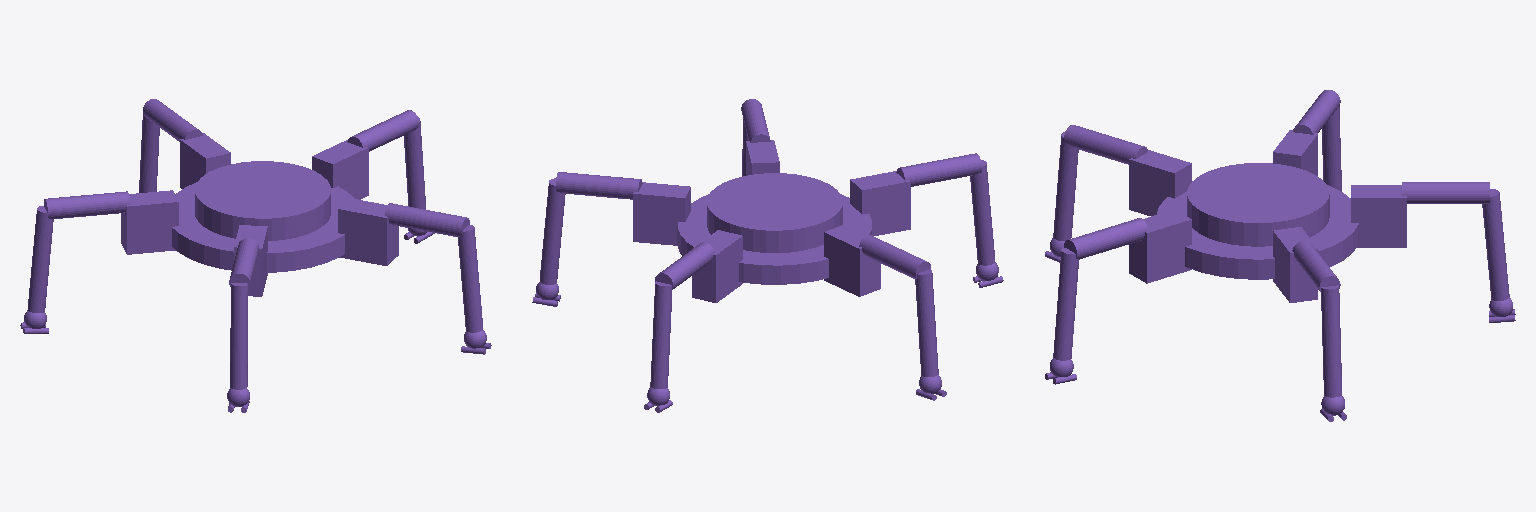
The robot description file, URDF, robot "pebble":
<?xml version="1.0" ?>
<!-- =================================================================================== -->
<!-- |    This document was autogenerated by xacro from /root/work/rocky/ros2/rocky_description/urdf/_plain.xacro | -->
<!-- |    EDITING THIS FILE BY HAND IS NOT RECOMMENDED                                 | -->
<!-- =================================================================================== -->
<!-- AUTO-GENERATED from cad/params.yaml by generate_urdf.py — edit THAT, not this -->
<robot name="pebble">
  <material name="pebble">
    <color rgba="0.55 0.42 0.75 1"/>
  </material>
  <link name="base_link">
    <inertial>
      <origin xyz="0.000000 0.000000 0.024500"/>
      <mass value="1.35"/>
      <inertia ixx="3.805e-03" ixy="0" ixz="0" iyy="3.805e-03" iyz="0" izz="7.126e-03"/>
    </inertial>
    <visual>
      <origin xyz="0 0 0.018"/>
      <geometry>
        <cylinder length="0.024" radius="0.1100"/>
      </geometry>
      <material name="pebble"/>
    </visual>
    <visual>
      <origin xyz="0 0 0.044"/>
      <geometry>
        <cylinder length="0.028" radius="0.0770"/>
      </geometry>
      <material name="pebble"/>
    </visual>
    <collision>
      <origin xyz="0 0 0.018"/>
      <geometry>
        <cylinder length="0.024" radius="0.1100"/>
      </geometry>
    </collision>
    <collision>
      <origin xyz="0 0 0.044"/>
      <geometry>
        <cylinder length="0.028" radius="0.0770"/>
      </geometry>
    </collision>
  </link>
  <link name="coxa0">
    <inertial>
      <origin xyz="0.020000 0.000000 0.030000"/>
      <mass value="0.14"/>
      <inertia ixx="5.395e-05" ixy="0" ixz="0" iyy="8.400e-05" iyz="0" izz="5.395e-05"/>
    </inertial>
    <visual>
      <origin xyz="0.020 0 0.030"/>
      <geometry>
        <box size="0.060 0.032 0.060"/>
      </geometry>
      <material name="pebble"/>
    </visual>
    <collision>
      <origin xyz="0.020 0 0.030"/>
      <geometry>
        <box size="0.060 0.032 0.060"/>
      </geometry>
    </collision>
  </link>
  <joint name="yaw0" type="revolute">
    <parent link="base_link"/>
    <child link="coxa0"/>
    <origin rpy="0 0 1.5707963267948966" xyz="6.735557395310442e-18 0.11 0"/>
    <axis xyz="0 0 1"/>
    <limit effort="2.94" lower="-0.698132" upper="0.698132" velocity="5.2"/>
    <dynamics damping="0.05"/>
  </joint>
  <link name="femur0">
    <inertial>
      <origin xyz="0.047500 0.000000 0.000000"/>
      <mass value="0.03"/>
      <inertia ixx="2.160e-06" ixy="0" ixz="0" iyy="2.364e-05" iyz="0" izz="2.364e-05"/>
    </inertial>
    <visual>
      <origin rpy="0 1.570796 0" xyz="0.0475 0 0"/>
      <geometry>
        <cylinder length="0.0950" radius="0.012"/>
      </geometry>
      <material name="pebble"/>
    </visual>
    <collision>
      <origin rpy="0 1.570796 0" xyz="0.0475 0 0"/>
      <geometry>
        <cylinder length="0.0950" radius="0.012"/>
      </geometry>
    </collision>
  </link>
  <joint name="hip0" type="revolute">
    <parent link="coxa0"/>
    <child link="femur0"/>
    <origin xyz="0.0450 0 0.0580"/>
    <axis xyz="0 -1 0"/>
    <limit effort="2.94" lower="-1.221730" upper="1.570796" velocity="5.2"/>
    <dynamics damping="0.05"/>
  </joint>
  <link name="tibia0">
    <inertial>
      <origin xyz="0.062100 0.000000 0.000000"/>
      <mass value="0.119"/>
      <inertia ixx="5.950e-06" ixy="0" ixz="0" iyy="1.559e-04" iyz="0" izz="1.559e-04"/>
    </inertial>
    <visual>
      <origin rpy="0 1.570796 0" xyz="0.0621 0 0"/>
      <geometry>
        <cylinder length="0.1242" radius="0.010"/>
      </geometry>
      <material name="pebble"/>
    </visual>
    <collision>
      <origin rpy="0 1.570796 0" xyz="0.0621 0 0"/>
      <geometry>
        <cylinder length="0.1242" radius="0.010"/>
      </geometry>
    </collision>
  </link>
  <joint name="knee0" type="revolute">
    <parent link="femur0"/>
    <child link="tibia0"/>
    <origin xyz="0.0950 0 0"/>
    <axis xyz="0 -1 0"/>
    <limit effort="2.94" lower="-2.617994" upper="-0.349066" velocity="5.2"/>
    <dynamics damping="0.05"/>
  </joint>
  <link name="foot0">
    <inertial>
      <origin xyz="0.000000 0.000000 0.000000"/>
      <mass value="0.05500000000000001"/>
      <inertia ixx="3.448e-06" ixy="0" ixz="0" iyy="3.448e-06" iyz="0" izz="3.448e-06"/>
    </inertial>
    <!-- +0.004: fixed claw prong (MJCF parity) -->
    <visual>
      <geometry>
        <sphere radius="0.013"/>
      </geometry>
      <material name="pebble"/>
    </visual>
    <visual>
      <origin rpy="0 0 0.28" xyz="0.012 0.0075 0"/>
      <geometry>
        <cylinder length="0.028" radius="0.0035"/>
      </geometry>
      <material name="pebble"/>
    </visual>
    <collision>
      <geometry>
        <sphere radius="0.013"/>
      </geometry>
    </collision>
  </link>
  <joint name="foot_fix0" type="fixed">
    <parent link="tibia0"/>
    <child link="foot0"/>
    <origin xyz="0.1350 0 0"/>
  </joint>
  <link name="claw0_link">
    <inertial>
      <origin xyz="0.000000 0.000000 0.000000"/>
      <mass value="0.004"/>
      <inertia ixx="1.000e-07" ixy="0" ixz="0" iyy="1.000e-07" iyz="0" izz="1.000e-07"/>
    </inertial>
    <visual>
      <origin rpy="0 0 -0.28" xyz="0.012 -0.0075 0"/>
      <geometry>
        <cylinder length="0.028" radius="0.0035"/>
      </geometry>
      <material name="pebble"/>
    </visual>
  </link>
  <joint name="claw0" type="revolute">
    <parent link="foot0"/>
    <child link="claw0_link"/>
    <origin xyz="0 0 0"/>
    <axis xyz="0 0 1"/>
    <limit effort="0.23" lower="0.000000" upper="0.959931" velocity="6.0"/>
    <dynamics damping="0.01"/>
  </joint>
  <link name="coxa1">
    <inertial>
      <origin xyz="0.020000 0.000000 0.030000"/>
      <mass value="0.14"/>
      <inertia ixx="5.395e-05" ixy="0" ixz="0" iyy="8.400e-05" iyz="0" izz="5.395e-05"/>
    </inertial>
    <visual>
      <origin xyz="0.020 0 0.030"/>
      <geometry>
        <box size="0.060 0.032 0.060"/>
      </geometry>
      <material name="pebble"/>
    </visual>
    <collision>
      <origin xyz="0.020 0 0.030"/>
      <geometry>
        <box size="0.060 0.032 0.060"/>
      </geometry>
    </collision>
  </link>
  <joint name="yaw1" type="revolute">
    <parent link="base_link"/>
    <child link="coxa1"/>
    <origin rpy="0 0 2.827433388230814" xyz="-0.1046162167924669 0.033991869381244225 0"/>
    <axis xyz="0 0 1"/>
    <limit effort="2.94" lower="-0.698132" upper="0.698132" velocity="5.2"/>
    <dynamics damping="0.05"/>
  </joint>
  <link name="femur1">
    <inertial>
      <origin xyz="0.047500 0.000000 0.000000"/>
      <mass value="0.03"/>
      <inertia ixx="2.160e-06" ixy="0" ixz="0" iyy="2.364e-05" iyz="0" izz="2.364e-05"/>
    </inertial>
    <visual>
      <origin rpy="0 1.570796 0" xyz="0.0475 0 0"/>
      <geometry>
        <cylinder length="0.0950" radius="0.012"/>
      </geometry>
      <material name="pebble"/>
    </visual>
    <collision>
      <origin rpy="0 1.570796 0" xyz="0.0475 0 0"/>
      <geometry>
        <cylinder length="0.0950" radius="0.012"/>
      </geometry>
    </collision>
  </link>
  <joint name="hip1" type="revolute">
    <parent link="coxa1"/>
    <child link="femur1"/>
    <origin xyz="0.0450 0 0.0580"/>
    <axis xyz="0 -1 0"/>
    <limit effort="2.94" lower="-1.221730" upper="1.570796" velocity="5.2"/>
    <dynamics damping="0.05"/>
  </joint>
  <link name="tibia1">
    <inertial>
      <origin xyz="0.062100 0.000000 0.000000"/>
      <mass value="0.119"/>
      <inertia ixx="5.950e-06" ixy="0" ixz="0" iyy="1.559e-04" iyz="0" izz="1.559e-04"/>
    </inertial>
    <visual>
      <origin rpy="0 1.570796 0" xyz="0.0621 0 0"/>
      <geometry>
        <cylinder length="0.1242" radius="0.010"/>
      </geometry>
      <material name="pebble"/>
    </visual>
    <collision>
      <origin rpy="0 1.570796 0" xyz="0.0621 0 0"/>
      <geometry>
        <cylinder length="0.1242" radius="0.010"/>
      </geometry>
    </collision>
  </link>
  <joint name="knee1" type="revolute">
    <parent link="femur1"/>
    <child link="tibia1"/>
    <origin xyz="0.0950 0 0"/>
    <axis xyz="0 -1 0"/>
    <limit effort="2.94" lower="-2.617994" upper="-0.349066" velocity="5.2"/>
    <dynamics damping="0.05"/>
  </joint>
  <link name="foot1">
    <inertial>
      <origin xyz="0.000000 0.000000 0.000000"/>
      <mass value="0.05500000000000001"/>
      <inertia ixx="3.448e-06" ixy="0" ixz="0" iyy="3.448e-06" iyz="0" izz="3.448e-06"/>
    </inertial>
    <!-- +0.004: fixed claw prong (MJCF parity) -->
    <visual>
      <geometry>
        <sphere radius="0.013"/>
      </geometry>
      <material name="pebble"/>
    </visual>
    <visual>
      <origin rpy="0 0 0.28" xyz="0.012 0.0075 0"/>
      <geometry>
        <cylinder length="0.028" radius="0.0035"/>
      </geometry>
      <material name="pebble"/>
    </visual>
    <collision>
      <geometry>
        <sphere radius="0.013"/>
      </geometry>
    </collision>
  </link>
  <joint name="foot_fix1" type="fixed">
    <parent link="tibia1"/>
    <child link="foot1"/>
    <origin xyz="0.1350 0 0"/>
  </joint>
  <link name="claw1_link">
    <inertial>
      <origin xyz="0.000000 0.000000 0.000000"/>
      <mass value="0.004"/>
      <inertia ixx="1.000e-07" ixy="0" ixz="0" iyy="1.000e-07" iyz="0" izz="1.000e-07"/>
    </inertial>
    <visual>
      <origin rpy="0 0 -0.28" xyz="0.012 -0.0075 0"/>
      <geometry>
        <cylinder length="0.028" radius="0.0035"/>
      </geometry>
      <material name="pebble"/>
    </visual>
  </link>
  <joint name="claw1" type="revolute">
    <parent link="foot1"/>
    <child link="claw1_link"/>
    <origin xyz="0 0 0"/>
    <axis xyz="0 0 1"/>
    <limit effort="0.23" lower="0.000000" upper="0.959931" velocity="6.0"/>
    <dynamics damping="0.01"/>
  </joint>
  <link name="coxa2">
    <inertial>
      <origin xyz="0.020000 0.000000 0.030000"/>
      <mass value="0.14"/>
      <inertia ixx="5.395e-05" ixy="0" ixz="0" iyy="8.400e-05" iyz="0" izz="5.395e-05"/>
    </inertial>
    <visual>
      <origin xyz="0.020 0 0.030"/>
      <geometry>
        <box size="0.060 0.032 0.060"/>
      </geometry>
      <material name="pebble"/>
    </visual>
    <collision>
      <origin xyz="0.020 0 0.030"/>
      <geometry>
        <box size="0.060 0.032 0.060"/>
      </geometry>
    </collision>
  </link>
  <joint name="yaw2" type="revolute">
    <parent link="base_link"/>
    <child link="coxa2"/>
    <origin rpy="0 0 4.084070449666731" xyz="-0.06465637775217206 -0.0889918693812442 0"/>
    <axis xyz="0 0 1"/>
    <limit effort="2.94" lower="-0.698132" upper="0.698132" velocity="5.2"/>
    <dynamics damping="0.05"/>
  </joint>
  <link name="femur2">
    <inertial>
      <origin xyz="0.047500 0.000000 0.000000"/>
      <mass value="0.03"/>
      <inertia ixx="2.160e-06" ixy="0" ixz="0" iyy="2.364e-05" iyz="0" izz="2.364e-05"/>
    </inertial>
    <visual>
      <origin rpy="0 1.570796 0" xyz="0.0475 0 0"/>
      <geometry>
        <cylinder length="0.0950" radius="0.012"/>
      </geometry>
      <material name="pebble"/>
    </visual>
    <collision>
      <origin rpy="0 1.570796 0" xyz="0.0475 0 0"/>
      <geometry>
        <cylinder length="0.0950" radius="0.012"/>
      </geometry>
    </collision>
  </link>
  <joint name="hip2" type="revolute">
    <parent link="coxa2"/>
    <child link="femur2"/>
    <origin xyz="0.0450 0 0.0580"/>
    <axis xyz="0 -1 0"/>
    <limit effort="2.94" lower="-1.221730" upper="1.570796" velocity="5.2"/>
    <dynamics damping="0.05"/>
  </joint>
  <link name="tibia2">
    <inertial>
      <origin xyz="0.062100 0.000000 0.000000"/>
      <mass value="0.119"/>
      <inertia ixx="5.950e-06" ixy="0" ixz="0" iyy="1.559e-04" iyz="0" izz="1.559e-04"/>
    </inertial>
    <visual>
      <origin rpy="0 1.570796 0" xyz="0.0621 0 0"/>
      <geometry>
        <cylinder length="0.1242" radius="0.010"/>
      </geometry>
      <material name="pebble"/>
    </visual>
    <collision>
      <origin rpy="0 1.570796 0" xyz="0.0621 0 0"/>
      <geometry>
        <cylinder length="0.1242" radius="0.010"/>
      </geometry>
    </collision>
  </link>
  <joint name="knee2" type="revolute">
    <parent link="femur2"/>
    <child link="tibia2"/>
    <origin xyz="0.0950 0 0"/>
    <axis xyz="0 -1 0"/>
    <limit effort="2.94" lower="-2.617994" upper="-0.349066" velocity="5.2"/>
    <dynamics damping="0.05"/>
  </joint>
  <link name="foot2">
    <inertial>
      <origin xyz="0.000000 0.000000 0.000000"/>
      <mass value="0.05500000000000001"/>
      <inertia ixx="3.448e-06" ixy="0" ixz="0" iyy="3.448e-06" iyz="0" izz="3.448e-06"/>
    </inertial>
    <!-- +0.004: fixed claw prong (MJCF parity) -->
    <visual>
      <geometry>
        <sphere radius="0.013"/>
      </geometry>
      <material name="pebble"/>
    </visual>
    <visual>
      <origin rpy="0 0 0.28" xyz="0.012 0.0075 0"/>
      <geometry>
        <cylinder length="0.028" radius="0.0035"/>
      </geometry>
      <material name="pebble"/>
    </visual>
    <collision>
      <geometry>
        <sphere radius="0.013"/>
      </geometry>
    </collision>
  </link>
  <joint name="foot_fix2" type="fixed">
    <parent link="tibia2"/>
    <child link="foot2"/>
    <origin xyz="0.1350 0 0"/>
  </joint>
  <link name="claw2_link">
    <inertial>
      <origin xyz="0.000000 0.000000 0.000000"/>
      <mass value="0.004"/>
      <inertia ixx="1.000e-07" ixy="0" ixz="0" iyy="1.000e-07" iyz="0" izz="1.000e-07"/>
    </inertial>
    <visual>
      <origin rpy="0 0 -0.28" xyz="0.012 -0.0075 0"/>
      <geometry>
        <cylinder length="0.028" radius="0.0035"/>
      </geometry>
      <material name="pebble"/>
    </visual>
  </link>
  <joint name="claw2" type="revolute">
    <parent link="foot2"/>
    <child link="claw2_link"/>
    <origin xyz="0 0 0"/>
    <axis xyz="0 0 1"/>
    <limit effort="0.23" lower="0.000000" upper="0.959931" velocity="6.0"/>
    <dynamics damping="0.01"/>
  </joint>
  <link name="coxa3">
    <inertial>
      <origin xyz="0.020000 0.000000 0.030000"/>
      <mass value="0.14"/>
      <inertia ixx="5.395e-05" ixy="0" ixz="0" iyy="8.400e-05" iyz="0" izz="5.395e-05"/>
    </inertial>
    <visual>
      <origin xyz="0.020 0 0.030"/>
      <geometry>
        <box size="0.060 0.032 0.060"/>
      </geometry>
      <material name="pebble"/>
    </visual>
    <collision>
      <origin xyz="0.020 0 0.030"/>
      <geometry>
        <box size="0.060 0.032 0.060"/>
      </geometry>
    </collision>
  </link>
  <joint name="yaw3" type="revolute">
    <parent link="base_link"/>
    <child link="coxa3"/>
    <origin rpy="0 0 5.340707511102648" xyz="0.06465637775217202 -0.08899186938124423 0"/>
    <axis xyz="0 0 1"/>
    <limit effort="2.94" lower="-0.698132" upper="0.698132" velocity="5.2"/>
    <dynamics damping="0.05"/>
  </joint>
  <link name="femur3">
    <inertial>
      <origin xyz="0.047500 0.000000 0.000000"/>
      <mass value="0.03"/>
      <inertia ixx="2.160e-06" ixy="0" ixz="0" iyy="2.364e-05" iyz="0" izz="2.364e-05"/>
    </inertial>
    <visual>
      <origin rpy="0 1.570796 0" xyz="0.0475 0 0"/>
      <geometry>
        <cylinder length="0.0950" radius="0.012"/>
      </geometry>
      <material name="pebble"/>
    </visual>
    <collision>
      <origin rpy="0 1.570796 0" xyz="0.0475 0 0"/>
      <geometry>
        <cylinder length="0.0950" radius="0.012"/>
      </geometry>
    </collision>
  </link>
  <joint name="hip3" type="revolute">
    <parent link="coxa3"/>
    <child link="femur3"/>
    <origin xyz="0.0450 0 0.0580"/>
    <axis xyz="0 -1 0"/>
    <limit effort="2.94" lower="-1.221730" upper="1.570796" velocity="5.2"/>
    <dynamics damping="0.05"/>
  </joint>
  <link name="tibia3">
    <inertial>
      <origin xyz="0.062100 0.000000 0.000000"/>
      <mass value="0.119"/>
      <inertia ixx="5.950e-06" ixy="0" ixz="0" iyy="1.559e-04" iyz="0" izz="1.559e-04"/>
    </inertial>
    <visual>
      <origin rpy="0 1.570796 0" xyz="0.0621 0 0"/>
      <geometry>
        <cylinder length="0.1242" radius="0.010"/>
      </geometry>
      <material name="pebble"/>
    </visual>
    <collision>
      <origin rpy="0 1.570796 0" xyz="0.0621 0 0"/>
      <geometry>
        <cylinder length="0.1242" radius="0.010"/>
      </geometry>
    </collision>
  </link>
  <joint name="knee3" type="revolute">
    <parent link="femur3"/>
    <child link="tibia3"/>
    <origin xyz="0.0950 0 0"/>
    <axis xyz="0 -1 0"/>
    <limit effort="2.94" lower="-2.617994" upper="-0.349066" velocity="5.2"/>
    <dynamics damping="0.05"/>
  </joint>
  <link name="foot3">
    <inertial>
      <origin xyz="0.000000 0.000000 0.000000"/>
      <mass value="0.05500000000000001"/>
      <inertia ixx="3.448e-06" ixy="0" ixz="0" iyy="3.448e-06" iyz="0" izz="3.448e-06"/>
    </inertial>
    <!-- +0.004: fixed claw prong (MJCF parity) -->
    <visual>
      <geometry>
        <sphere radius="0.013"/>
      </geometry>
      <material name="pebble"/>
    </visual>
    <visual>
      <origin rpy="0 0 0.28" xyz="0.012 0.0075 0"/>
      <geometry>
        <cylinder length="0.028" radius="0.0035"/>
      </geometry>
      <material name="pebble"/>
    </visual>
    <collision>
      <geometry>
        <sphere radius="0.013"/>
      </geometry>
    </collision>
  </link>
  <joint name="foot_fix3" type="fixed">
    <parent link="tibia3"/>
    <child link="foot3"/>
    <origin xyz="0.1350 0 0"/>
  </joint>
  <link name="claw3_link">
    <inertial>
      <origin xyz="0.000000 0.000000 0.000000"/>
      <mass value="0.004"/>
      <inertia ixx="1.000e-07" ixy="0" ixz="0" iyy="1.000e-07" iyz="0" izz="1.000e-07"/>
    </inertial>
    <visual>
      <origin rpy="0 0 -0.28" xyz="0.012 -0.0075 0"/>
      <geometry>
        <cylinder length="0.028" radius="0.0035"/>
      </geometry>
      <material name="pebble"/>
    </visual>
  </link>
  <joint name="claw3" type="revolute">
    <parent link="foot3"/>
    <child link="claw3_link"/>
    <origin xyz="0 0 0"/>
    <axis xyz="0 0 1"/>
    <limit effort="0.23" lower="0.000000" upper="0.959931" velocity="6.0"/>
    <dynamics damping="0.01"/>
  </joint>
  <link name="coxa4">
    <inertial>
      <origin xyz="0.020000 0.000000 0.030000"/>
      <mass value="0.14"/>
      <inertia ixx="5.395e-05" ixy="0" ixz="0" iyy="8.400e-05" iyz="0" izz="5.395e-05"/>
    </inertial>
    <visual>
      <origin xyz="0.020 0 0.030"/>
      <geometry>
        <box size="0.060 0.032 0.060"/>
      </geometry>
      <material name="pebble"/>
    </visual>
    <collision>
      <origin xyz="0.020 0 0.030"/>
      <geometry>
        <box size="0.060 0.032 0.060"/>
      </geometry>
    </collision>
  </link>
  <joint name="yaw4" type="revolute">
    <parent link="base_link"/>
    <child link="coxa4"/>
    <origin rpy="0 0 6.5973445725385655" xyz="0.1046162167924669 0.03399186938124419 0"/>
    <axis xyz="0 0 1"/>
    <limit effort="2.94" lower="-0.698132" upper="0.698132" velocity="5.2"/>
    <dynamics damping="0.05"/>
  </joint>
  <link name="femur4">
    <inertial>
      <origin xyz="0.047500 0.000000 0.000000"/>
      <mass value="0.03"/>
      <inertia ixx="2.160e-06" ixy="0" ixz="0" iyy="2.364e-05" iyz="0" izz="2.364e-05"/>
    </inertial>
    <visual>
      <origin rpy="0 1.570796 0" xyz="0.0475 0 0"/>
      <geometry>
        <cylinder length="0.0950" radius="0.012"/>
      </geometry>
      <material name="pebble"/>
    </visual>
    <collision>
      <origin rpy="0 1.570796 0" xyz="0.0475 0 0"/>
      <geometry>
        <cylinder length="0.0950" radius="0.012"/>
      </geometry>
    </collision>
  </link>
  <joint name="hip4" type="revolute">
    <parent link="coxa4"/>
    <child link="femur4"/>
    <origin xyz="0.0450 0 0.0580"/>
    <axis xyz="0 -1 0"/>
    <limit effort="2.94" lower="-1.221730" upper="1.570796" velocity="5.2"/>
    <dynamics damping="0.05"/>
  </joint>
  <link name="tibia4">
    <inertial>
      <origin xyz="0.062100 0.000000 0.000000"/>
      <mass value="0.119"/>
      <inertia ixx="5.950e-06" ixy="0" ixz="0" iyy="1.559e-04" iyz="0" izz="1.559e-04"/>
    </inertial>
    <visual>
      <origin rpy="0 1.570796 0" xyz="0.0621 0 0"/>
      <geometry>
        <cylinder length="0.1242" radius="0.010"/>
      </geometry>
      <material name="pebble"/>
    </visual>
    <collision>
      <origin rpy="0 1.570796 0" xyz="0.0621 0 0"/>
      <geometry>
        <cylinder length="0.1242" radius="0.010"/>
      </geometry>
    </collision>
  </link>
  <joint name="knee4" type="revolute">
    <parent link="femur4"/>
    <child link="tibia4"/>
    <origin xyz="0.0950 0 0"/>
    <axis xyz="0 -1 0"/>
    <limit effort="2.94" lower="-2.617994" upper="-0.349066" velocity="5.2"/>
    <dynamics damping="0.05"/>
  </joint>
  <link name="foot4">
    <inertial>
      <origin xyz="0.000000 0.000000 0.000000"/>
      <mass value="0.05500000000000001"/>
      <inertia ixx="3.448e-06" ixy="0" ixz="0" iyy="3.448e-06" iyz="0" izz="3.448e-06"/>
    </inertial>
    <!-- +0.004: fixed claw prong (MJCF parity) -->
    <visual>
      <geometry>
        <sphere radius="0.013"/>
      </geometry>
      <material name="pebble"/>
    </visual>
    <visual>
      <origin rpy="0 0 0.28" xyz="0.012 0.0075 0"/>
      <geometry>
        <cylinder length="0.028" radius="0.0035"/>
      </geometry>
      <material name="pebble"/>
    </visual>
    <collision>
      <geometry>
        <sphere radius="0.013"/>
      </geometry>
    </collision>
  </link>
  <joint name="foot_fix4" type="fixed">
    <parent link="tibia4"/>
    <child link="foot4"/>
    <origin xyz="0.1350 0 0"/>
  </joint>
  <link name="claw4_link">
    <inertial>
      <origin xyz="0.000000 0.000000 0.000000"/>
      <mass value="0.004"/>
      <inertia ixx="1.000e-07" ixy="0" ixz="0" iyy="1.000e-07" iyz="0" izz="1.000e-07"/>
    </inertial>
    <visual>
      <origin rpy="0 0 -0.28" xyz="0.012 -0.0075 0"/>
      <geometry>
        <cylinder length="0.028" radius="0.0035"/>
      </geometry>
      <material name="pebble"/>
    </visual>
  </link>
  <joint name="claw4" type="revolute">
    <parent link="foot4"/>
    <child link="claw4_link"/>
    <origin xyz="0 0 0"/>
    <axis xyz="0 0 1"/>
    <limit effort="0.23" lower="0.000000" upper="0.959931" velocity="6.0"/>
    <dynamics damping="0.01"/>
  </joint>
</robot>

--- Render facts (derived) ---
Views: 3 orthographic renders of the robot side by side, from view 1: azimuth 30°, elevation 25°; view 2: azimuth 150°, elevation 25°; view 3: azimuth 270°, elevation 25°.
Robot: pebble — 26 links, 25 joints (20 revolute, 5 fixed); root link base_link; default pose: all joints at 0 but 5 set to mid-range because 0 is outside their limits (knee0 = -1.48, knee1 = -1.48, knee2 = -1.48, knee3 = -1.48, knee4 = -1.48).
Visible links, largest first — view 1: base_link, coxa3, coxa1, coxa4, tibia2, tibia3, coxa0, tibia1, femur1, femur3, tibia4, femur4 (+4 smaller); view 2: base_link, coxa4, coxa2, coxa1, coxa0, tibia0, tibia1, femur4, tibia4, tibia2, femur2, femur1 (+3 smaller); view 3: base_link, coxa3, coxa0, coxa2, coxa4, tibia4, tibia3, tibia0, femur0, tibia2, femur3, femur2 (+4 smaller).
Boxes of the visible links, x1=… form: base_link: x1=172, y1=161, x2=354, y2=272; coxa3: x1=338, y1=198, x2=398, y2=265; coxa1: x1=121, y1=190, x2=178, y2=254; coxa4: x1=312, y1=140, x2=368, y2=199; tibia2: x1=230, y1=283, x2=248, y2=389; tibia3: x1=458, y1=225, x2=482, y2=332; coxa0: x1=180, y1=133, x2=230, y2=188; tibia1: x1=28, y1=206, x2=53, y2=312; femur1: x1=44, y1=191, x2=130, y2=218; femur3: x1=385, y1=203, x2=469, y2=236; tibia4: x1=404, y1=117, x2=425, y2=209; femur4: x1=347, y1=110, x2=418, y2=151; base_link: x1=677, y1=173, x2=871, y2=284; coxa4: x1=633, y1=182, x2=690, y2=245; coxa2: x1=850, y1=171, x2=910, y2=235; coxa1: x1=824, y1=224, x2=880, y2=296; coxa0: x1=692, y1=230, x2=742, y2=302; tibia0: x1=650, y1=281, x2=671, y2=388; tibia1: x1=915, y1=269, x2=938, y2=376; femur4: x1=556, y1=172, x2=642, y2=199; tibia4: x1=540, y1=178, x2=565, y2=284; tibia2: x1=970, y1=160, x2=994, y2=265; femur2: x1=896, y1=153, x2=981, y2=186; femur1: x1=859, y1=235, x2=930, y2=278; base_link: x1=1157, y1=163, x2=1358, y2=279; coxa3: x1=1129, y1=209, x2=1191, y2=283; coxa0: x1=1351, y1=185, x2=1406, y2=247; coxa2: x1=1129, y1=150, x2=1191, y2=215; coxa4: x1=1273, y1=227, x2=1317, y2=302; tibia4: x1=1321, y1=285, x2=1341, y2=397; tibia3: x1=1053, y1=248, x2=1078, y2=360; tibia0: x1=1482, y1=189, x2=1509, y2=300; femur0: x1=1402, y1=182, x2=1489, y2=203; tibia2: x1=1053, y1=131, x2=1078, y2=240; femur3: x1=1064, y1=218, x2=1147, y2=259; femur2: x1=1064, y1=125, x2=1147, y2=164.
Size in the robot's own frame: 0.5333 by 0.5074 by 0.1631 metres.
Geometry: primitives only (box / cylinder / sphere), no mesh files.
